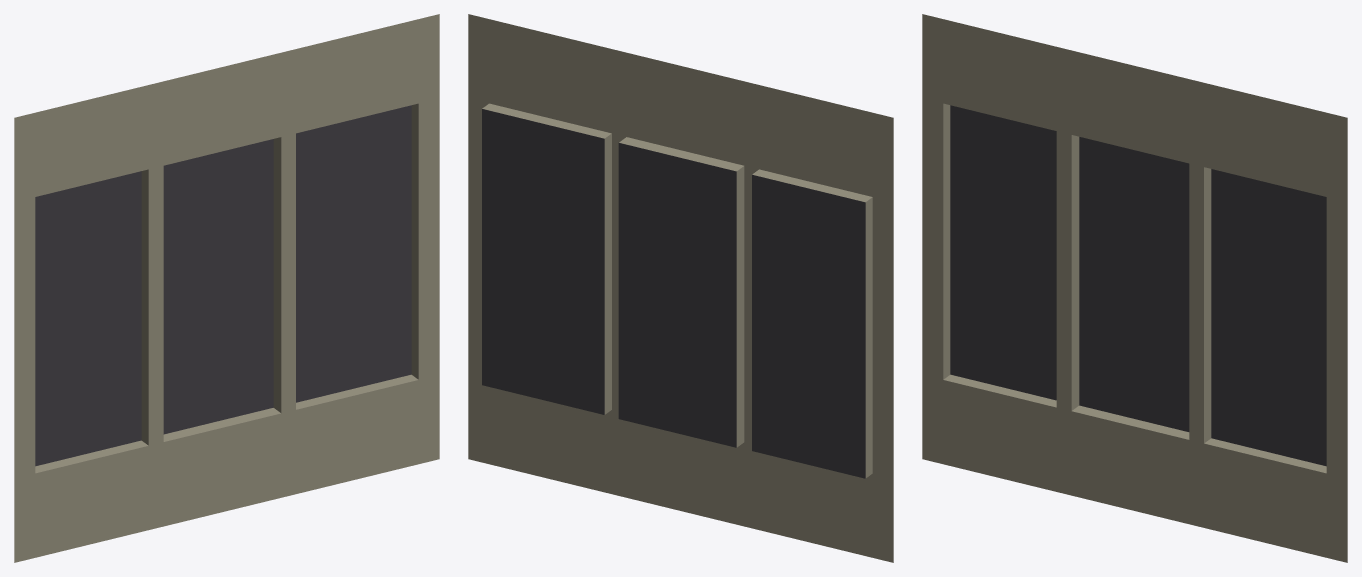
Rendered from S_b_window_02.fbx.
3 views of the same model, side by side, from view 1: azimuth 30°, elevation 25°; view 2: azimuth 150°, elevation 25°; view 3: azimuth 330°, elevation 25° (orthographic).
Visible parts, largest first — view 1: b_window_02; view 2: b_window_02; view 3: b_window_02.
Boxes of the visible parts, left/top/right/bottom form: b_window_02: left=14, top=14, right=439, bottom=562; b_window_02: left=468, top=14, right=893, bottom=562; b_window_02: left=922, top=14, right=1347, bottom=562.
Size of the model in its own units: 400 by 400 by 12.68.
